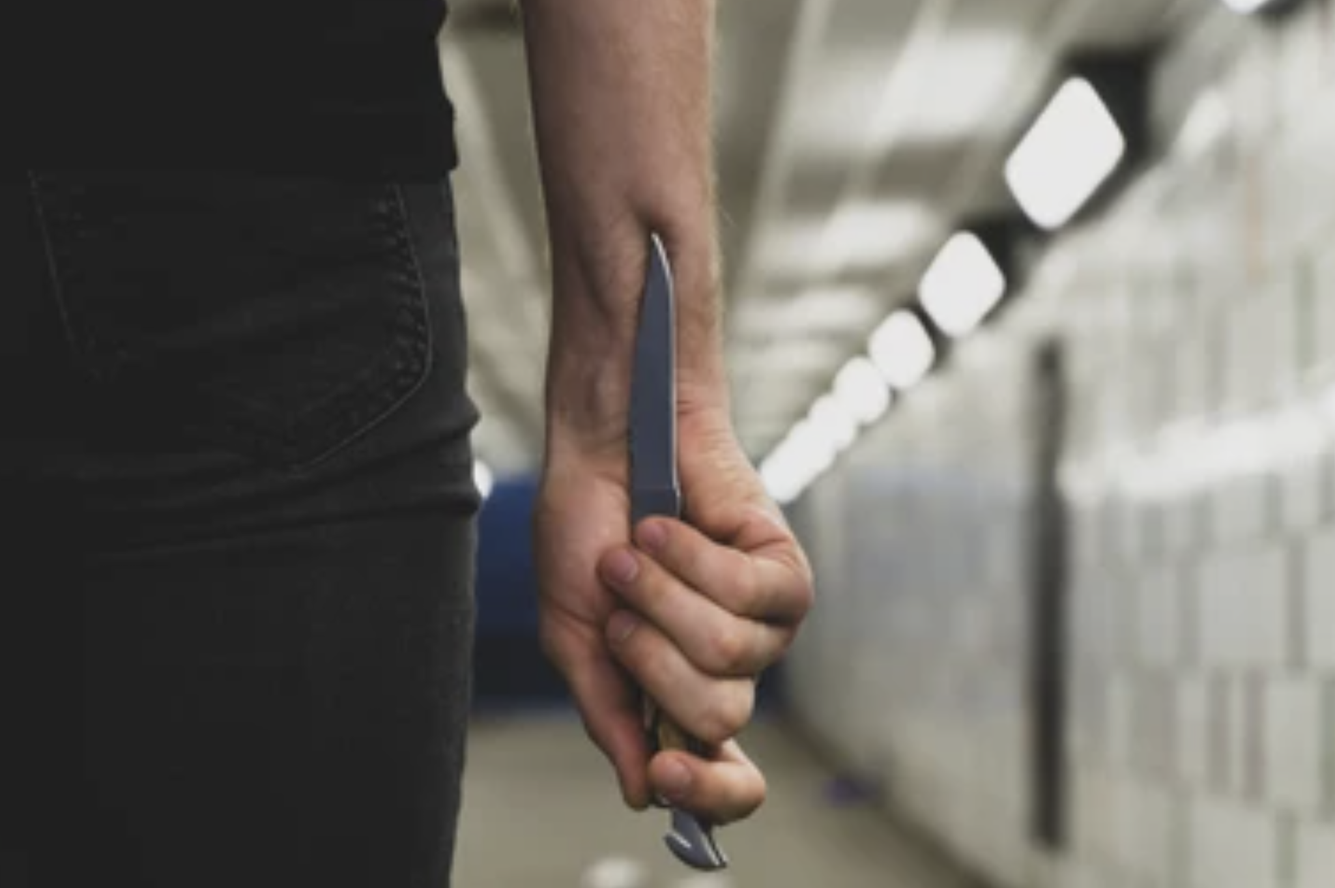knife_52.png: (594, 217, 743, 872)
